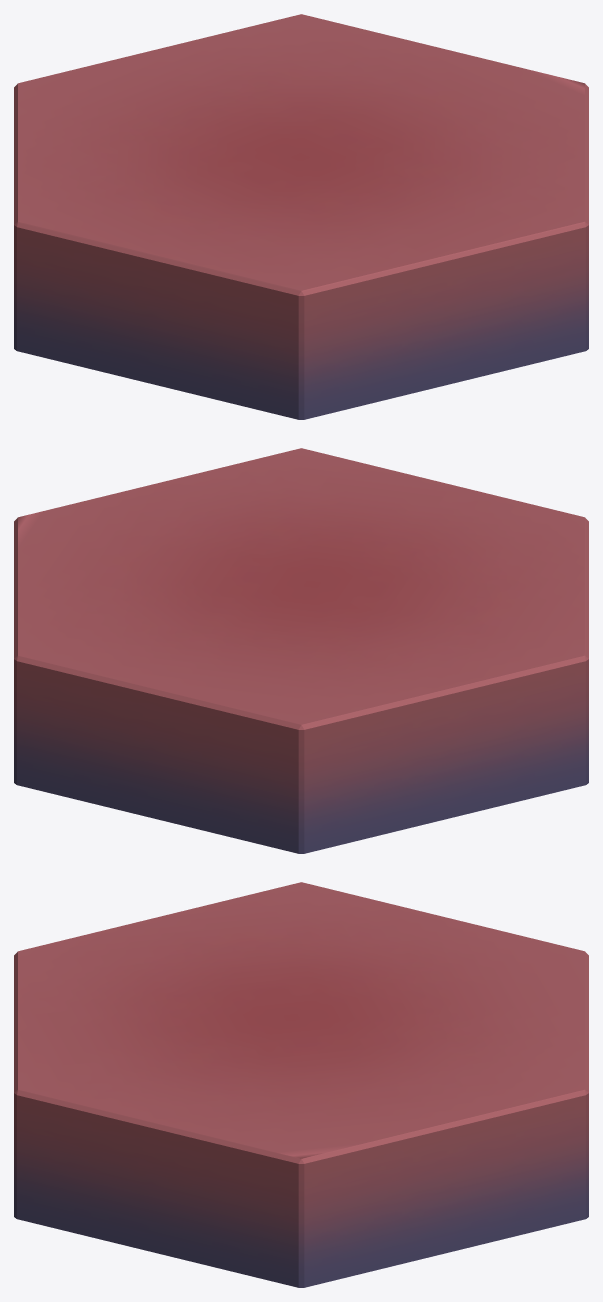
Rendered from Stone_Hexagon.fbx.
3 views of the same model, one above another, from view 1: azimuth 30°, elevation 25°; view 2: azimuth 150°, elevation 25°; view 3: azimuth 270°, elevation 25° (orthographic).
Visible parts, largest first — view 1: Stone_Hexagon; view 2: Stone_Hexagon; view 3: Stone_Hexagon.
Part boxes in pixels (x1,y1,x2,y2): Stone_Hexagon: (14,14,588,419); Stone_Hexagon: (14,448,588,853); Stone_Hexagon: (14,882,588,1287).
Size of the model in its own units: 22.07 by 4.71 by 19.21.
1 material, 1 textured.
